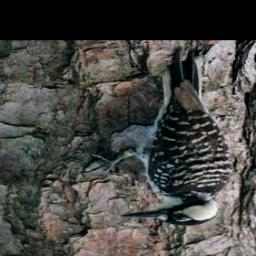Woodpecker: (76, 48, 242, 228)
